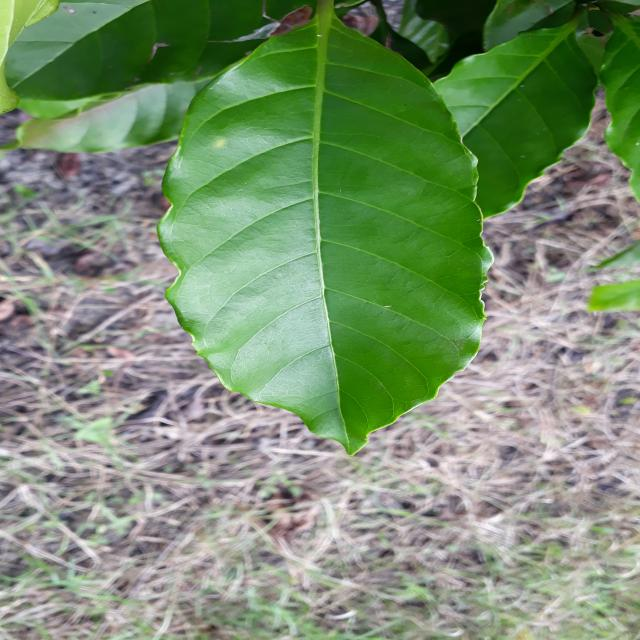Sanas: (164, 0, 490, 454)
